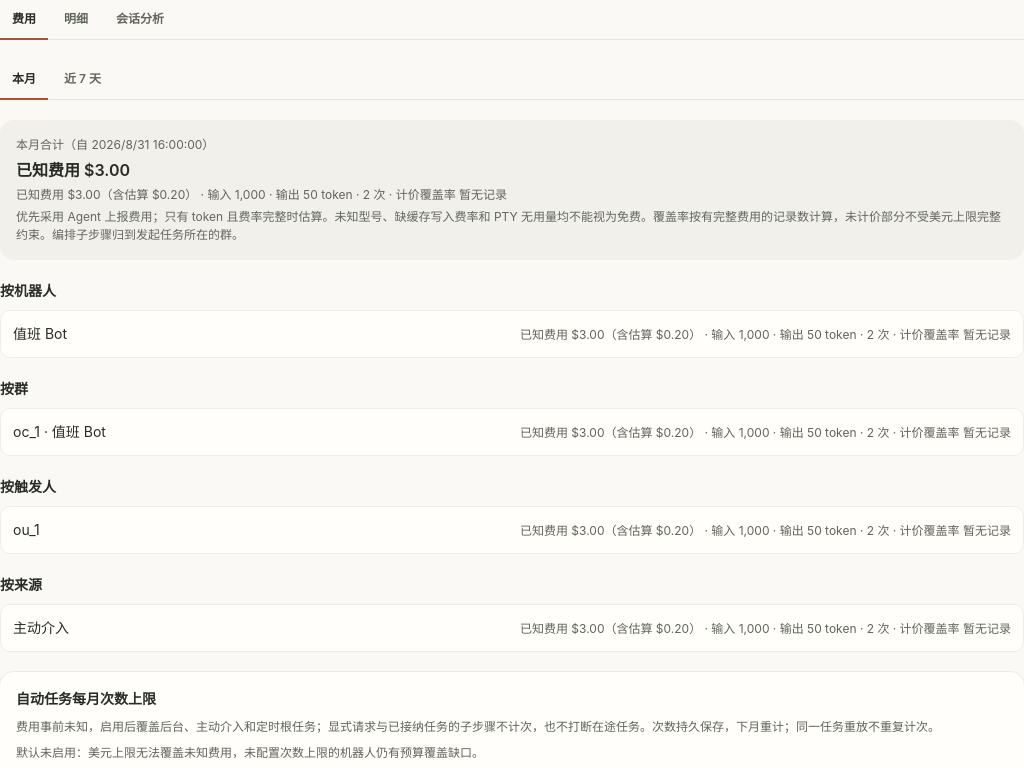
Test: usage overview 会话分析 tab › 切到会话分析 tab 时请求分析汇总并回调 view 变化；切回费用不改变费用查询口径
This screenshot has width=1024, height=768.
Click the tab "会话分析".
click(140, 20)  # box left=104, top=0, right=176, bottom=40
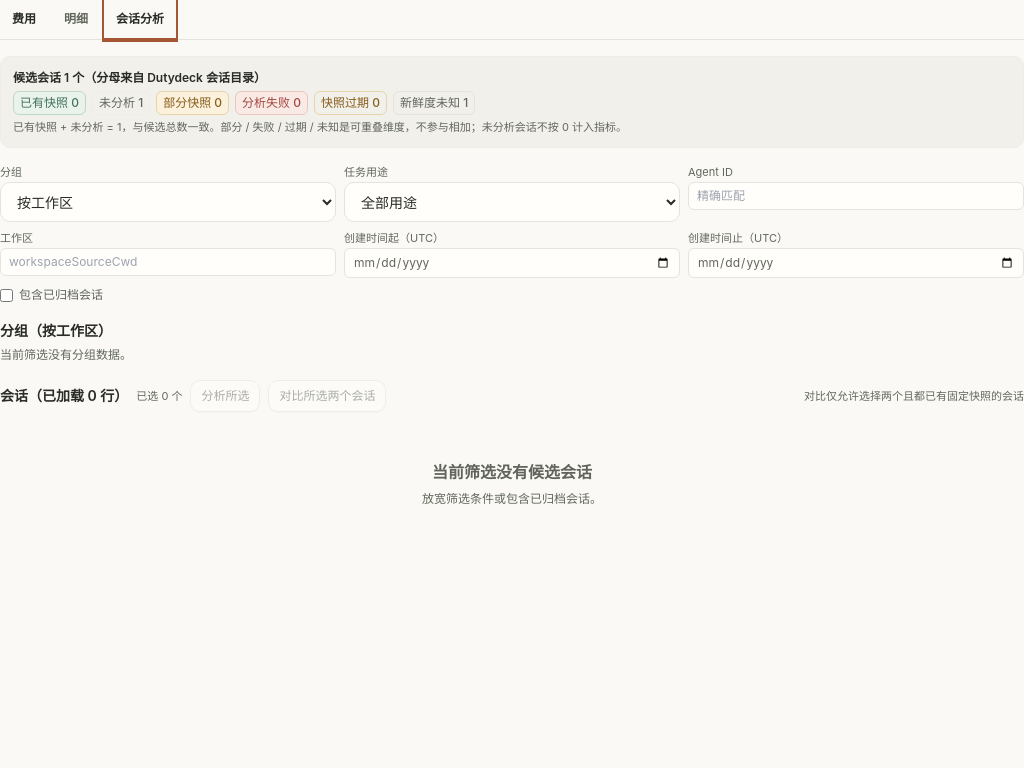
Expected: the element named "候选会话覆盖" is shown, left=0, top=56, right=1023, bottom=148
Click the tab "费用".
click(24, 20)  # box left=0, top=0, right=48, bottom=40
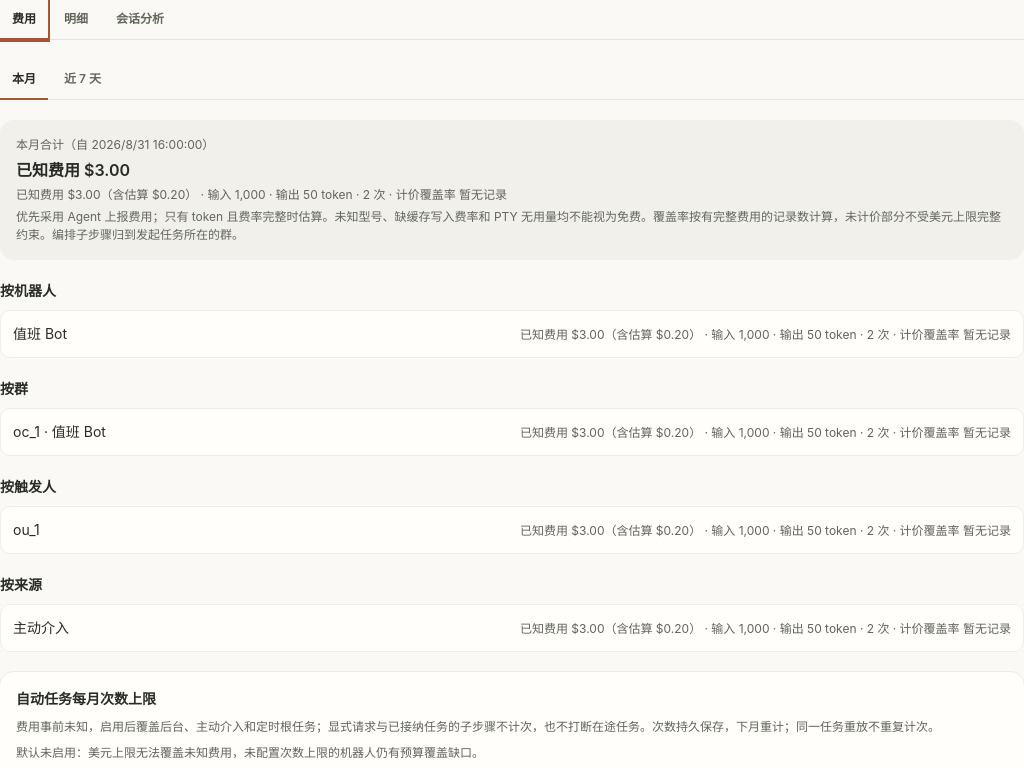
Expected: the element "合计" is shown, left=0, top=120, right=1023, bottom=260
